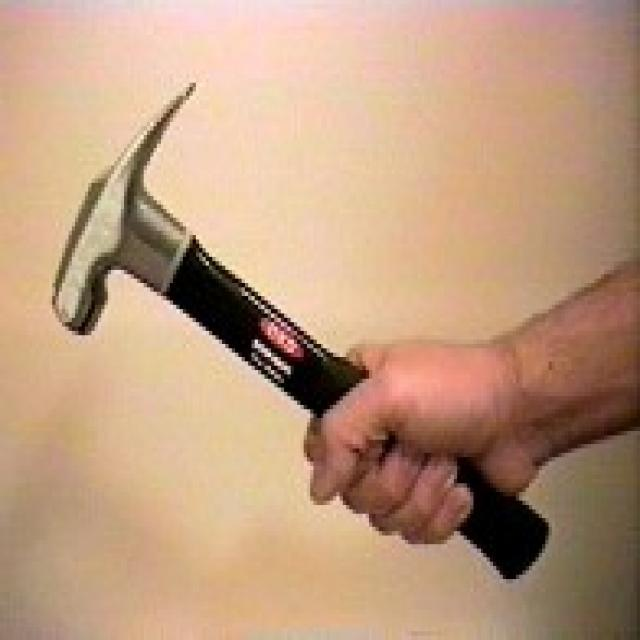hammer: (46, 72, 568, 600)
